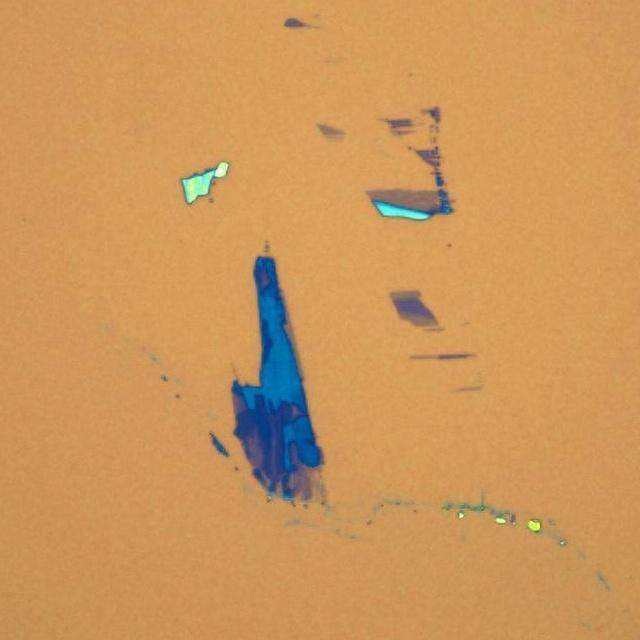monolayer-eWW4: (365, 188, 439, 210), (315, 120, 344, 138), (402, 314, 439, 326), (390, 289, 421, 298)
